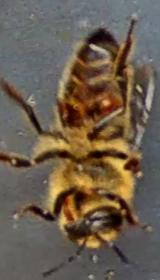varroa_mite: (88, 92, 126, 118)
